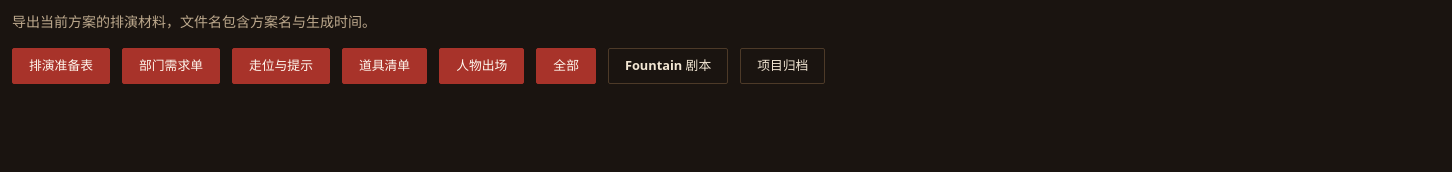
Test: ExportPanel › 环境不支持 createObjectURL 时提示改用打印且不抛错
Click the button "部门需求单". click: (171, 66)
box: [122, 48, 220, 84]
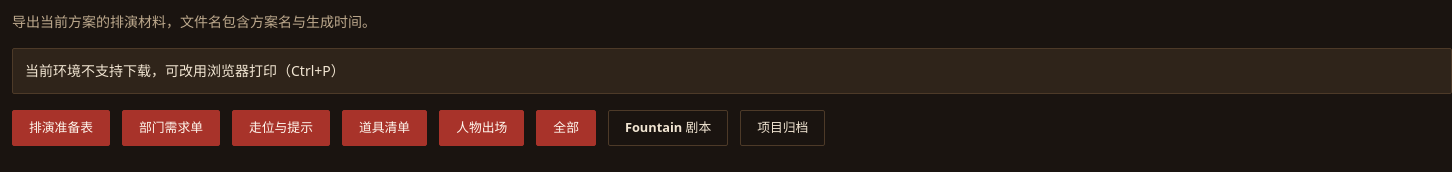
expect the message reads "当前环境不支持下载，可改用浏览器打印（Ctrl+P）": met, box [25, 61, 345, 80]
